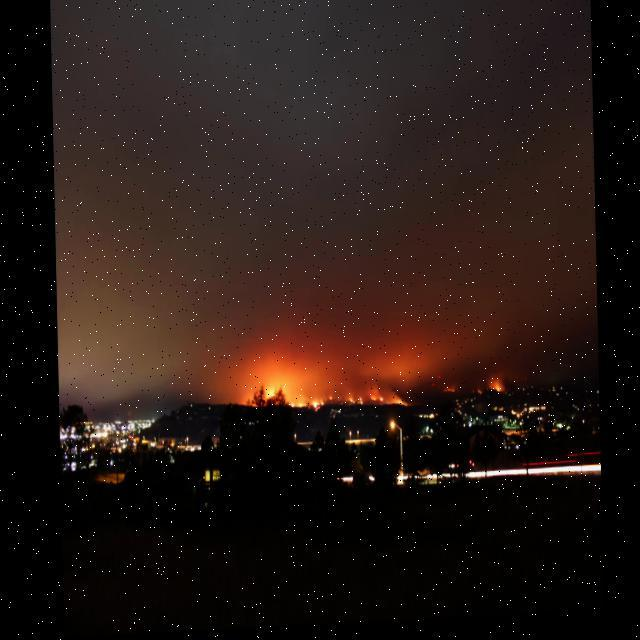Fire: (257, 378, 289, 407), (288, 402, 322, 417), (348, 396, 362, 409), (368, 399, 381, 406), (442, 390, 453, 398), (494, 392, 498, 396)
